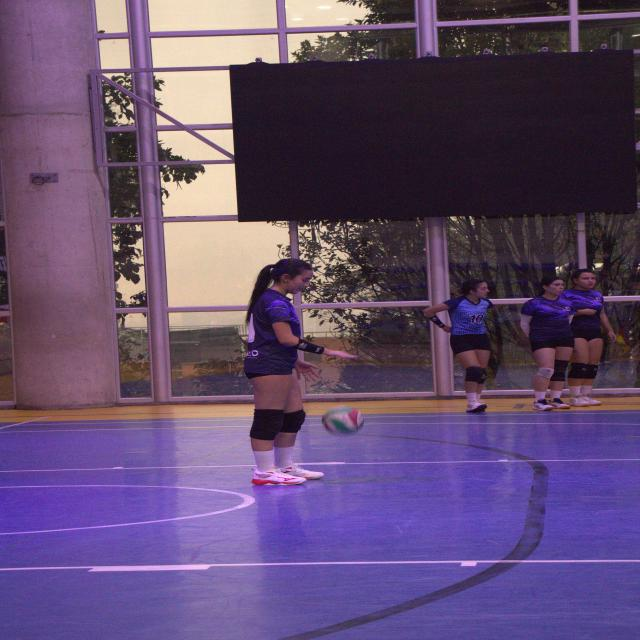volleyball: (324, 406, 366, 434)
